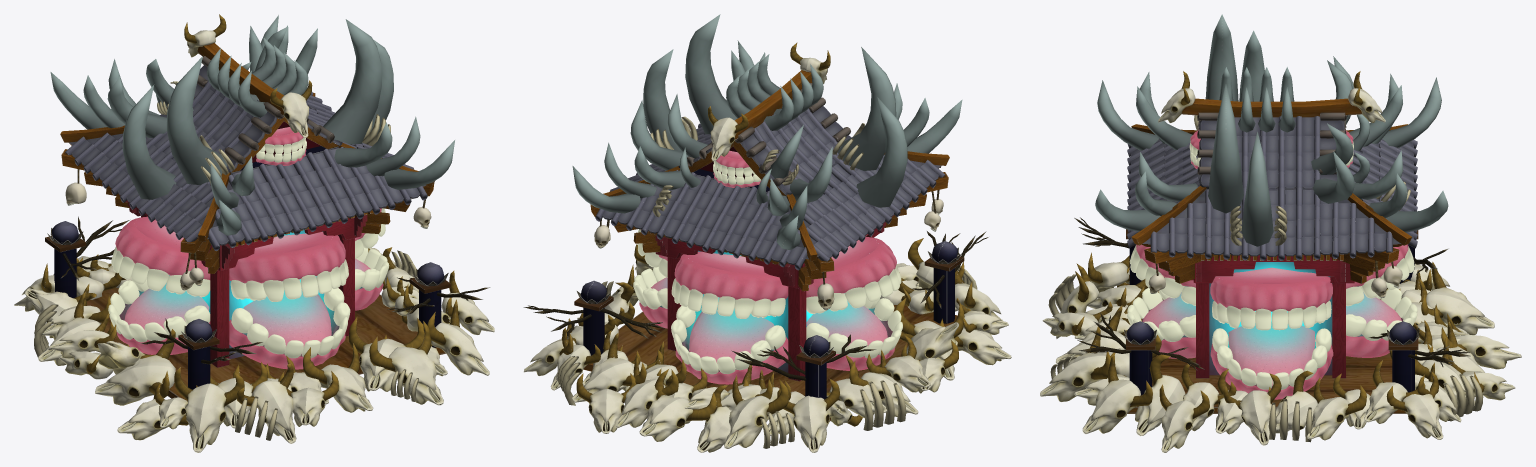
File: shrine.glb
3 views of the same model, side by side, from view 1: azimuth 30°, elevation 25°; view 2: azimuth 150°, elevation 25°; view 3: azimuth 270°, elevation 25° (orthographic). The views are drawn at different scales.
Parts seen in each view (by area): view 1: Shrine2_Shrine_Material_0, Bull_Skulls1_Bull_Skull_Material_0, Horns1_Extra_Stuff_Material_0, Mouths1_Mouths_Material_0, Skulls_Human_Skull_Material_0; view 2: Shrine2_Shrine_Material_0, Horns1_Extra_Stuff_Material_0, Bull_Skulls1_Bull_Skull_Material_0, Mouths1_Mouths_Material_0, Skulls_Human_Skull_Material_0; view 3: Shrine2_Shrine_Material_0, Bull_Skulls1_Bull_Skull_Material_0, Horns1_Extra_Stuff_Material_0, Mouths1_Mouths_Material_0, Skulls_Human_Skull_Material_0.
Boxes of the visible parts, left/top/right/bottom form: Shrine2_Shrine_Material_0: left=45, top=43, right=450, bottom=400; Bull_Skulls1_Bull_Skull_Material_0: left=14, top=14, right=494, bottom=452; Horns1_Extra_Stuff_Material_0: left=34, top=15, right=490, bottom=440; Mouths1_Mouths_Material_0: left=108, top=127, right=389, bottom=369; Skulls_Human_Skull_Material_0: left=65, top=182, right=431, bottom=290; Shrine2_Shrine_Material_0: left=574, top=70, right=964, bottom=421; Horns1_Extra_Stuff_Material_0: left=523, top=14, right=988, bottom=448; Bull_Skulls1_Bull_Skull_Material_0: left=523, top=42, right=1011, bottom=452; Mouths1_Mouths_Material_0: left=633, top=150, right=902, bottom=384; Skulls_Human_Skull_Material_0: left=594, top=199, right=943, bottom=310; Shrine2_Shrine_Material_0: left=1124, top=98, right=1419, bottom=413; Bull_Skulls1_Bull_Skull_Material_0: left=1040, top=71, right=1521, bottom=452; Horns1_Extra_Stuff_Material_0: left=1048, top=14, right=1483, bottom=442; Mouths1_Mouths_Material_0: left=1127, top=130, right=1417, bottom=399; Skulls_Human_Skull_Material_0: left=1148, top=265, right=1402, bottom=297.
Size of the model in its own units: 0.3617 by 0.3038 by 0.4001.
Materials: 5 (5 with a texture image).
